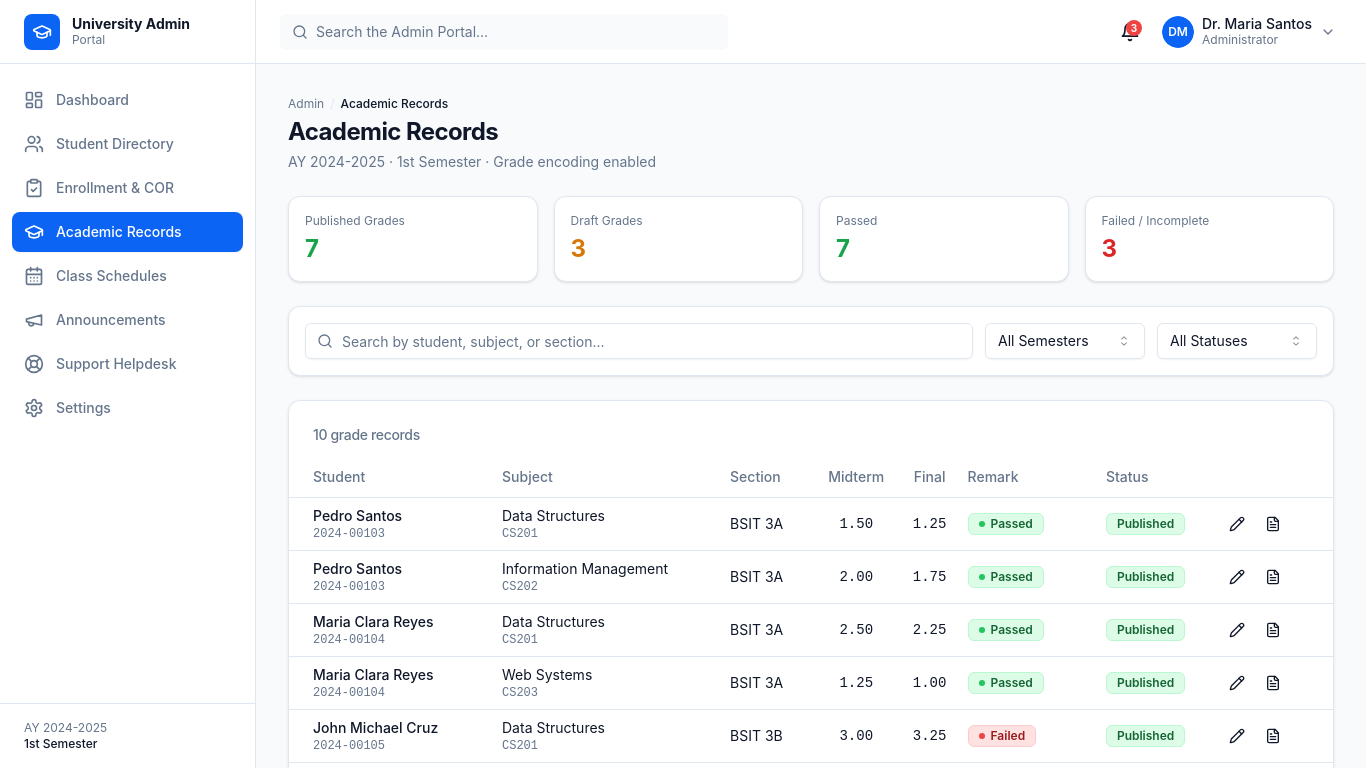
Scenario: Admin routes and workflows › blocks invalid grade input without saving
The image size is (1366, 768).
Click the button named "Encode " at x=1237, y=524, box [1221,508,1253,540]
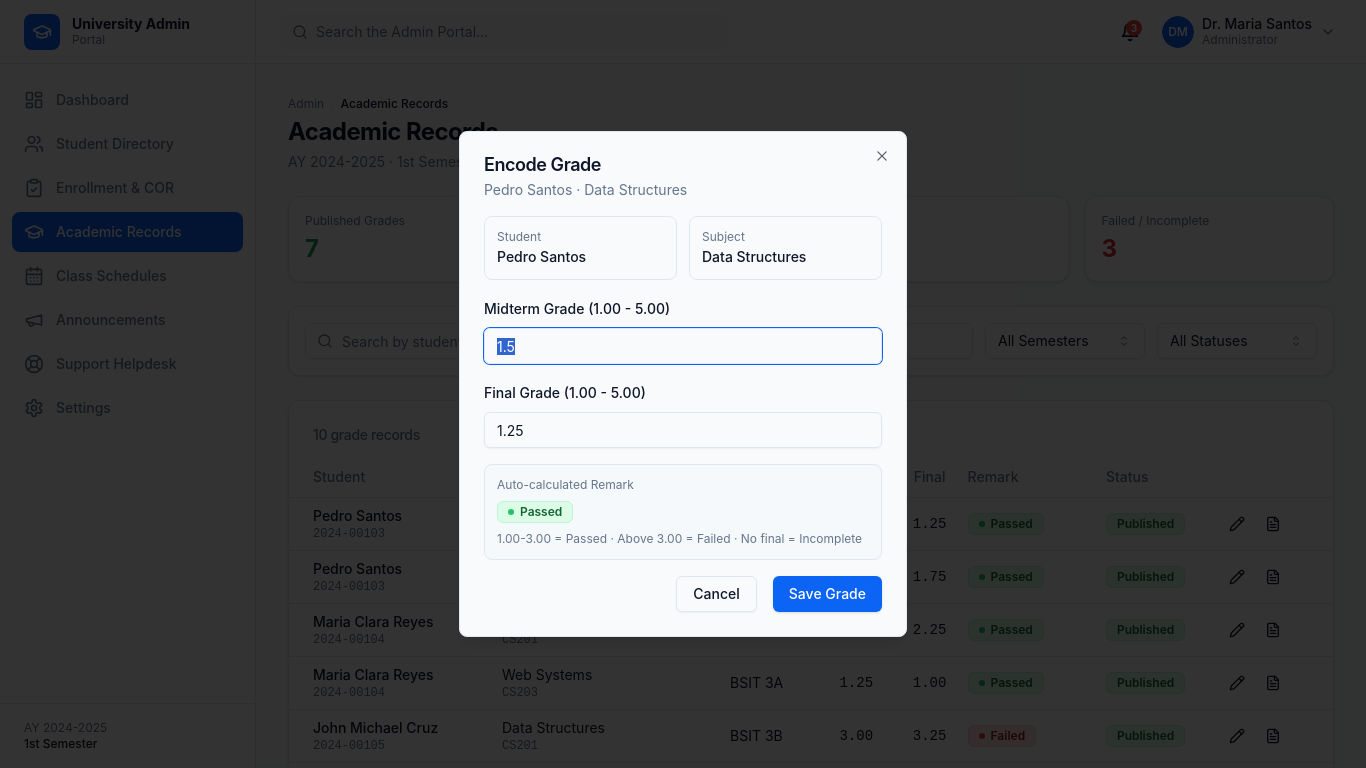
Replace the text in the field labelled "Final Grade (1.00 - 5.00)" with "9" at x=683, y=430, box [484,412,882,448]
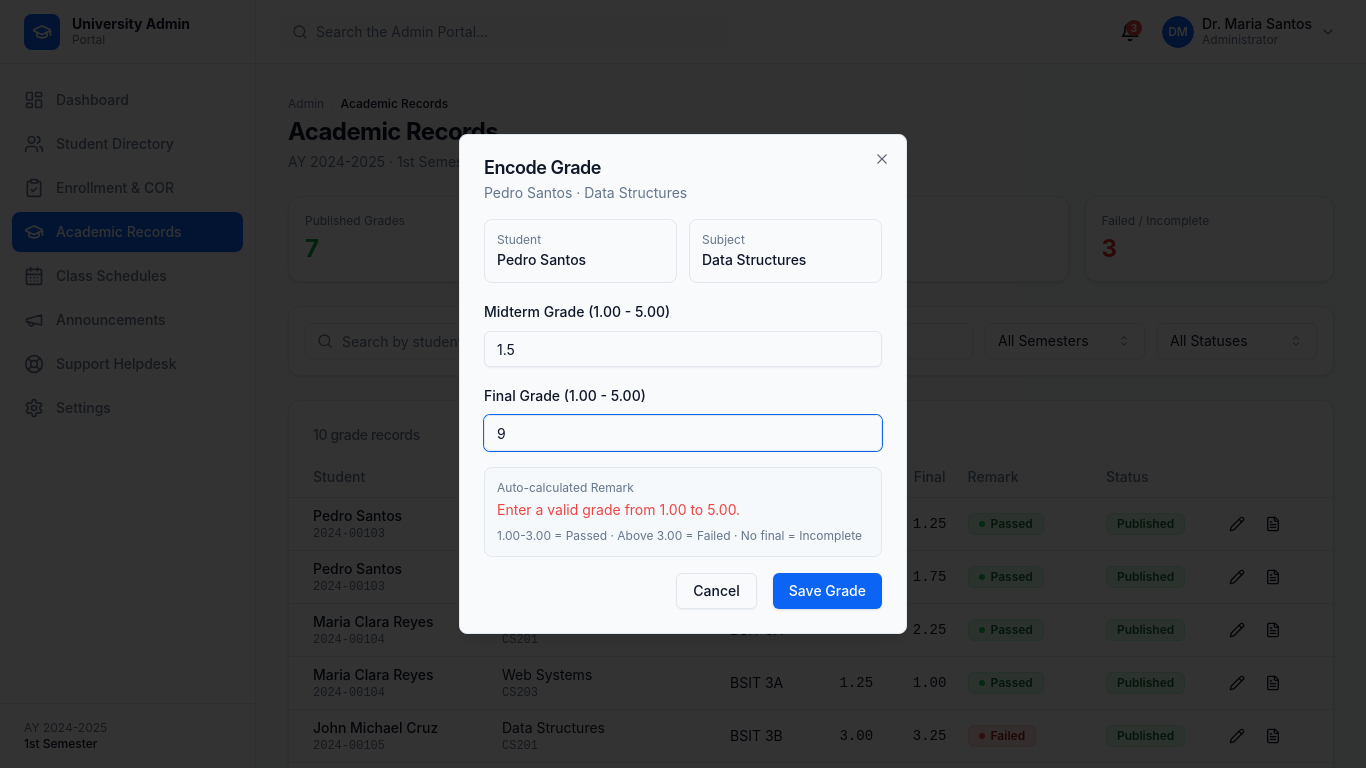
Click the button "Save Grade" at x=827, y=591, box [773,573,882,609]
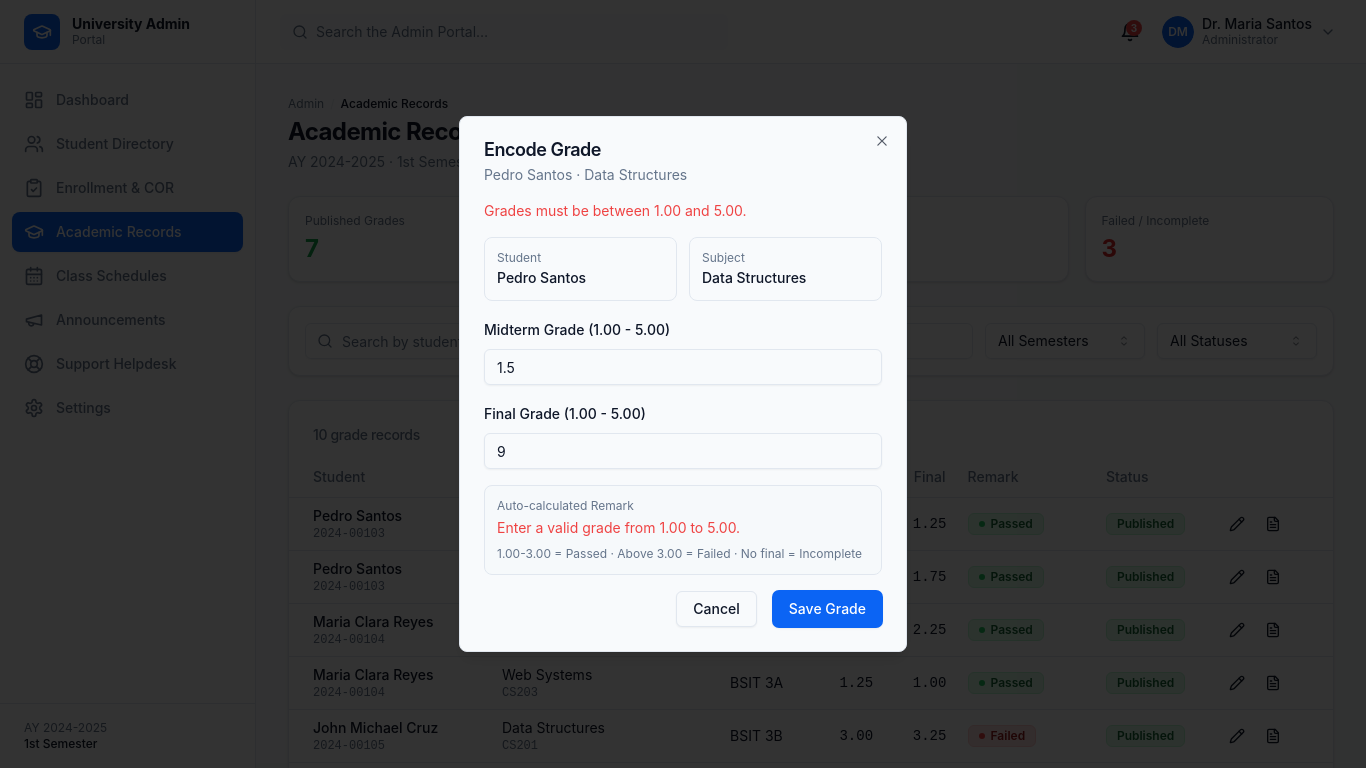
Expected: the message shows "between 1.00 and 5.00", [484,202,747,219]
